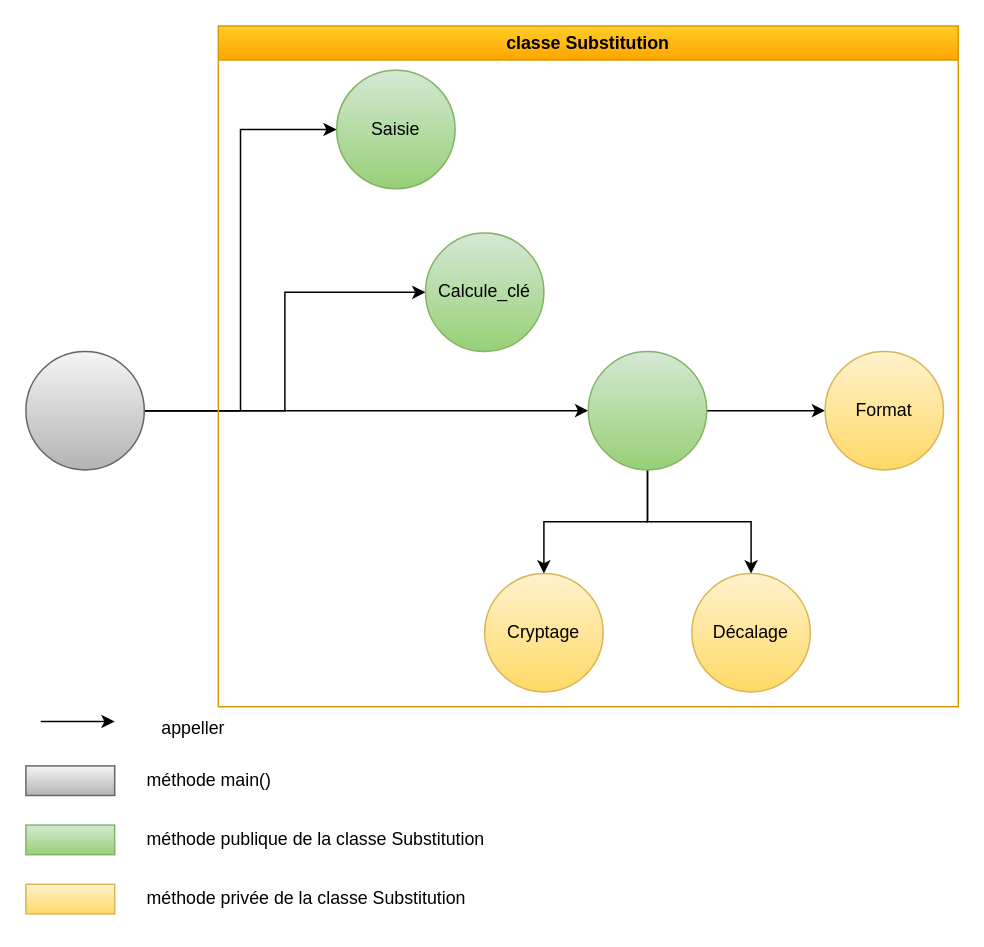
This 984x947 diagram has some shape labels left out. Each missing label, with the box of its shape:
main: (24, 350, 144, 470)
Sortie: (587, 350, 707, 470)
